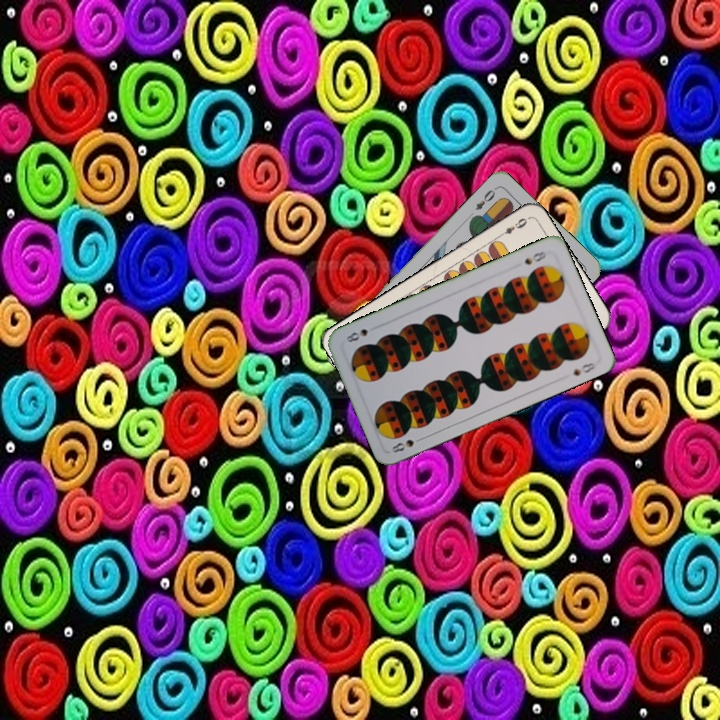E9: (494, 214, 530, 240)
EO: (471, 183, 500, 213)
S8: (387, 435, 417, 455), (520, 247, 548, 267)
